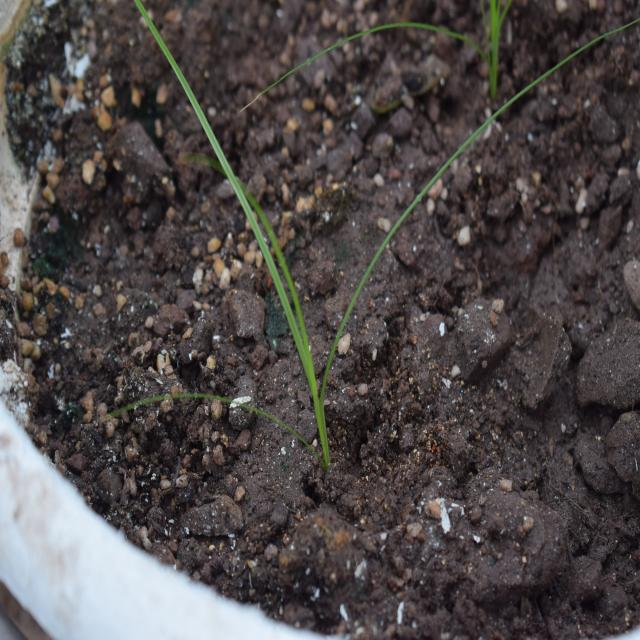sedge: (113, 0, 404, 525)
